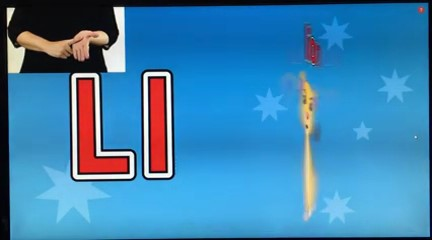L: (41, 26, 109, 63)
